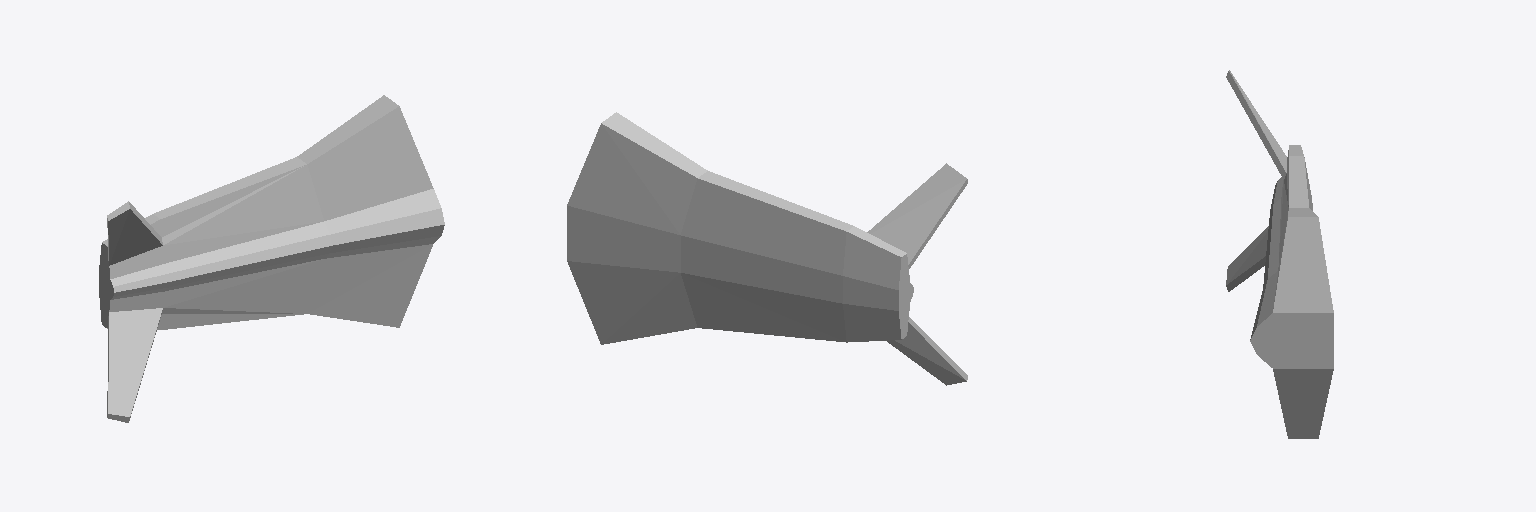
File: back.obj
3 renders of one model, left to right at view 1: azimuth 30°, elevation 25°; view 2: azimuth 150°, elevation 25°; view 3: azimuth 270°, elevation 25°, orthographic.
Parts seen in each view (by area): view 1: cube1_extract3; view 2: cube1_extract3; view 3: cube1_extract3.
Boxes of the visible parts, <box> form: cube1_extract3: <box>99,95,444,422</box>; cube1_extract3: <box>567,112,967,385</box>; cube1_extract3: <box>1226,70,1333,438</box>.
Bounding box in the file's own units: 0.657 × 0.4008 × 0.1763.